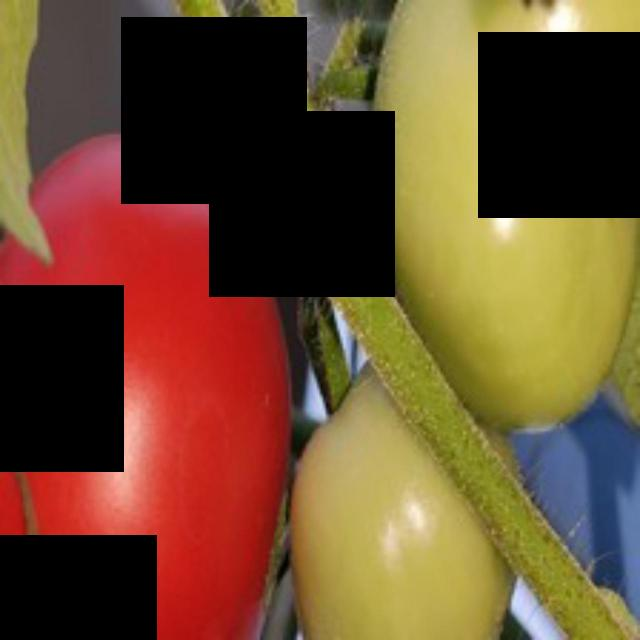tomato: (0, 117, 294, 637)
